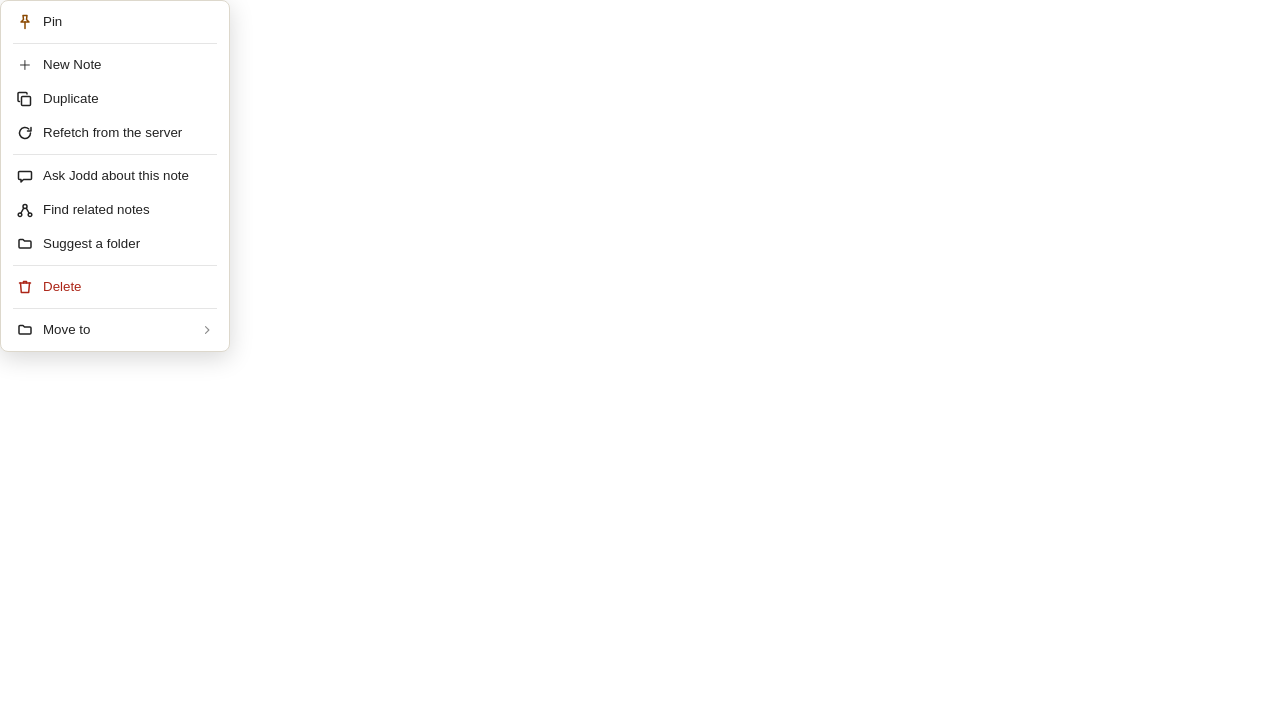
it: settles the nested confirmation once without a delete (batch=false)
The width and height of the screenshot is (1280, 720).
Click the button with class "danger".
click(115, 287)  # box x1=5 y1=270 x2=225 y2=304
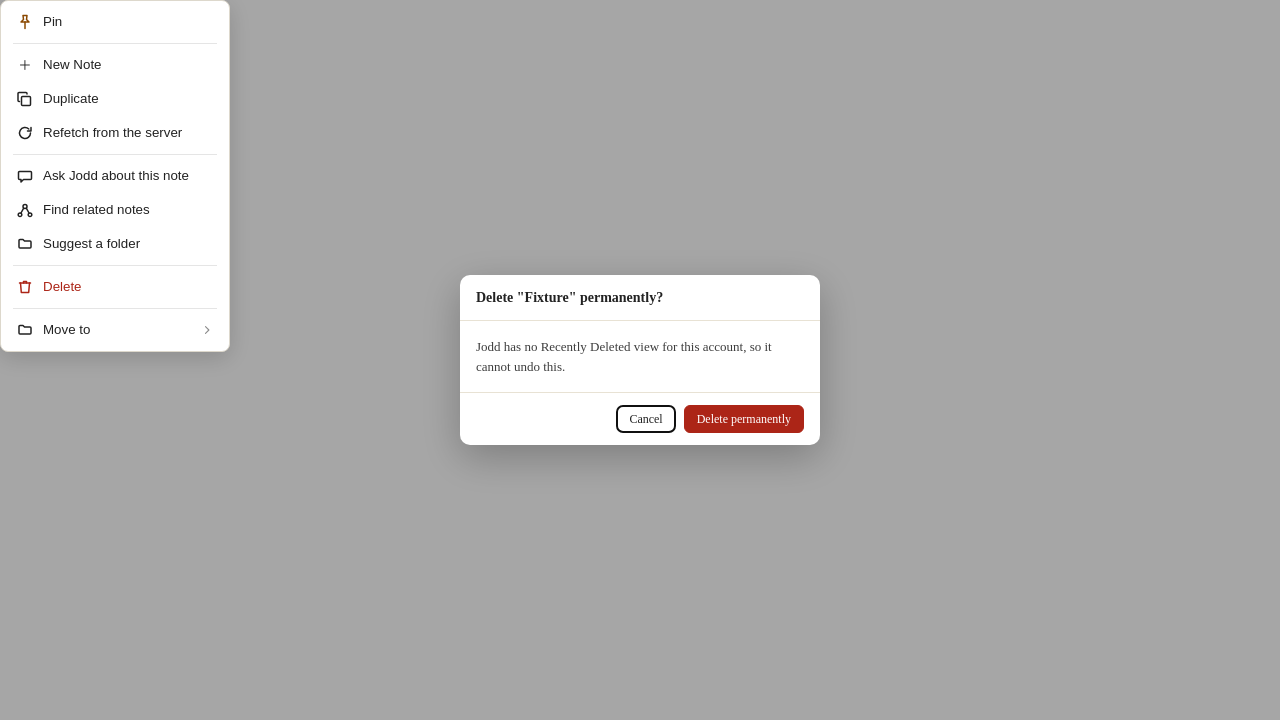
Press Escape in the button "Cancel", box x1=616 y1=405 x2=676 y2=433
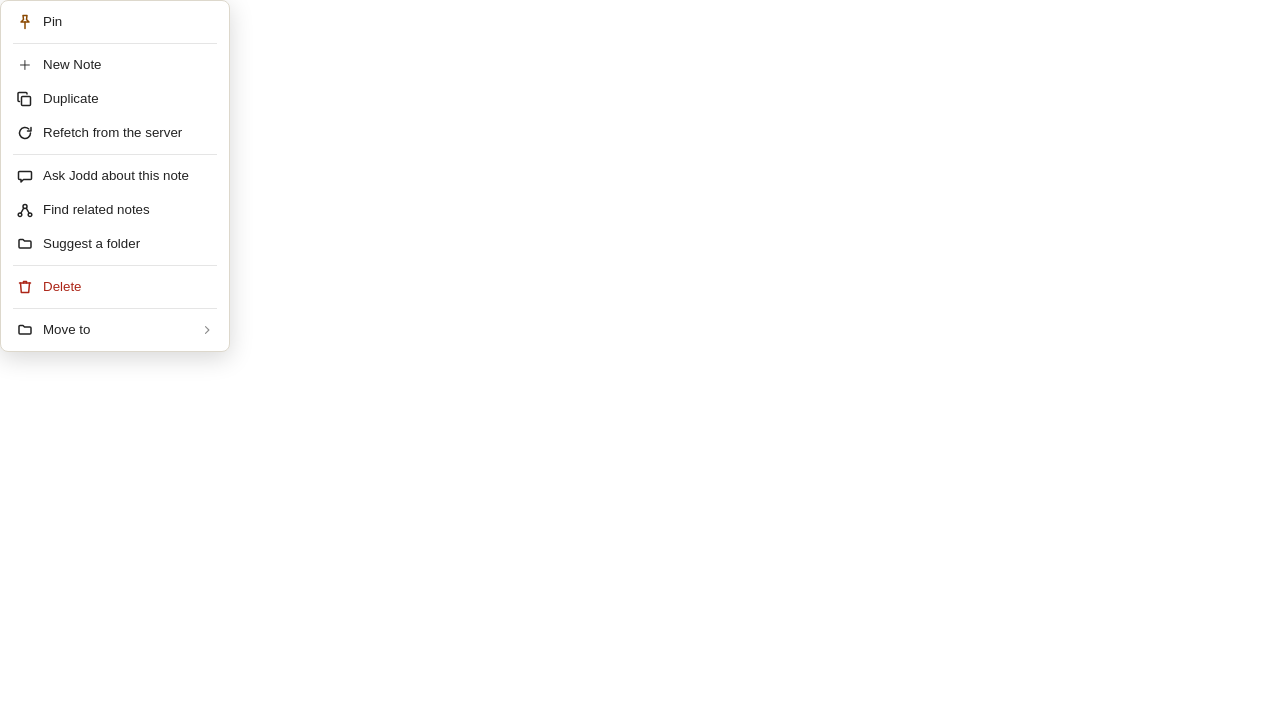
Expected: the dialog is gone
